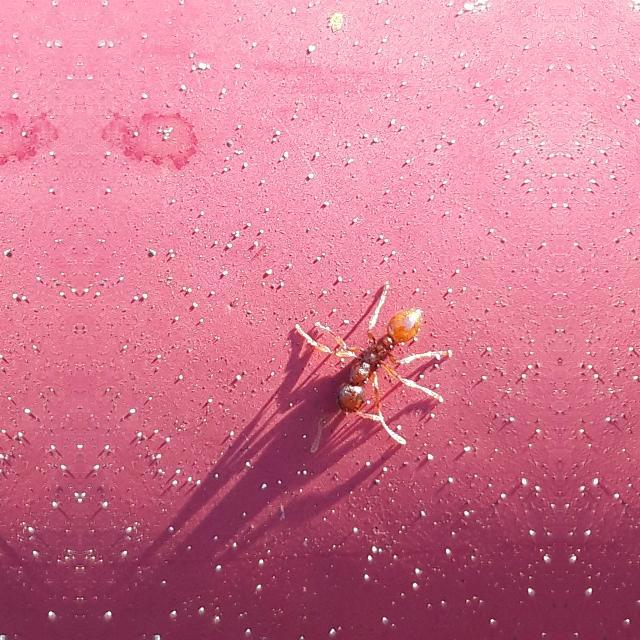Myrmica: (315, 288, 437, 436)
